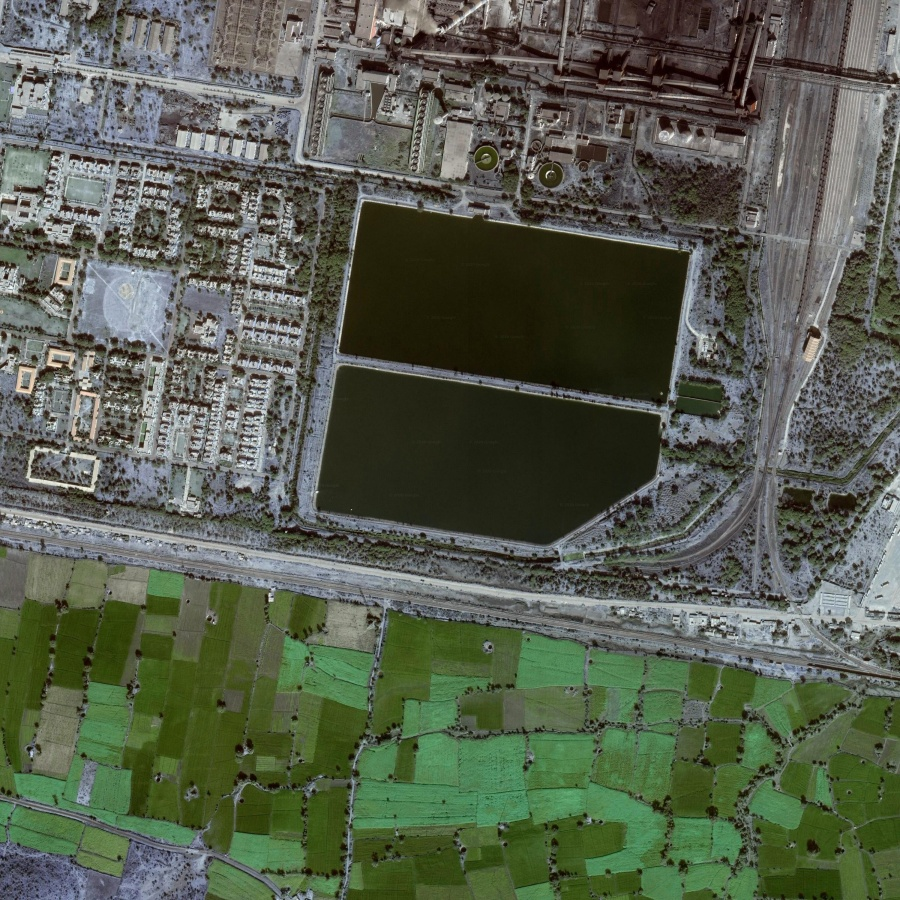PowerPlant: (287, 169, 707, 575)
